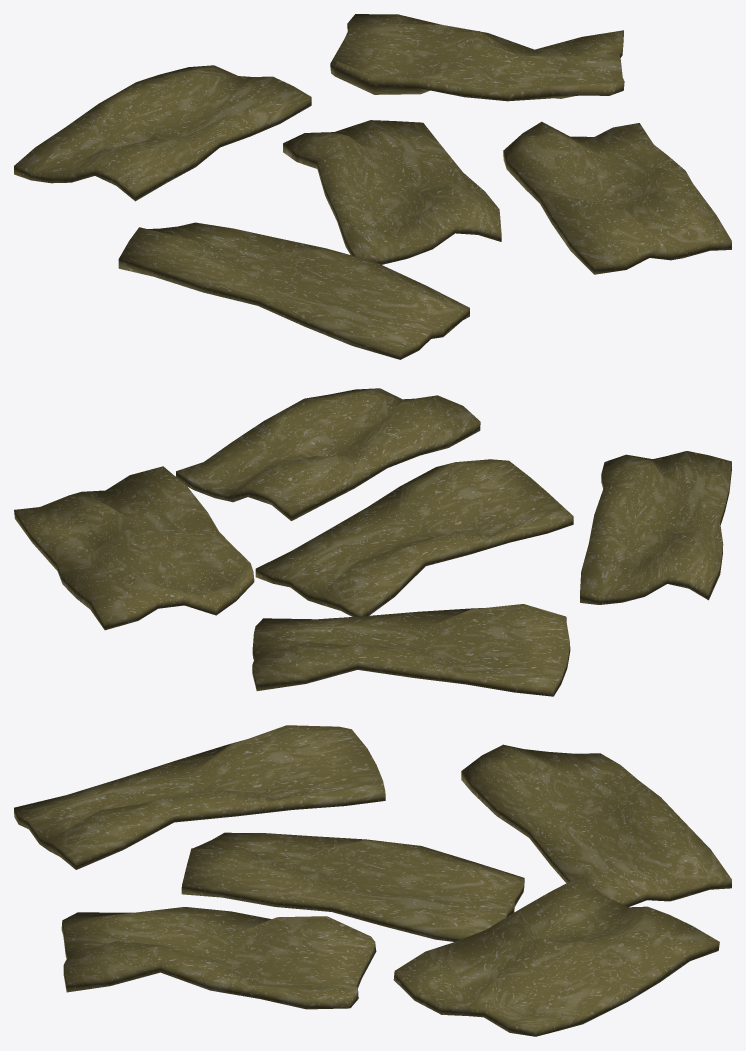
The model's file is yakiniku_01_d.glb.
3 views of the same model, one above another, from view 1: azimuth 30°, elevation 25°; view 2: azimuth 150°, elevation 25°; view 3: azimuth 270°, elevation 25° (orthographic). The views are drawn at different scales.
Visible parts, largest first — view 1: yakiniku; view 2: yakiniku; view 3: yakiniku.
Part boxes in pixels (x1,y1,x2,y2): yakiniku: (14, 14, 731, 359); yakiniku: (14, 388, 731, 696); yakiniku: (14, 725, 731, 1036).
Size of the model in its own units: 0.1823 by 0.0146 by 0.1811.
1 material, 1 textured.
